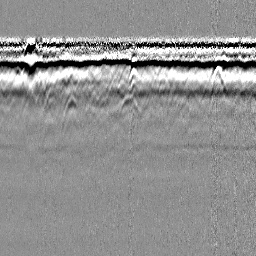cavity: (117, 93, 141, 117)
